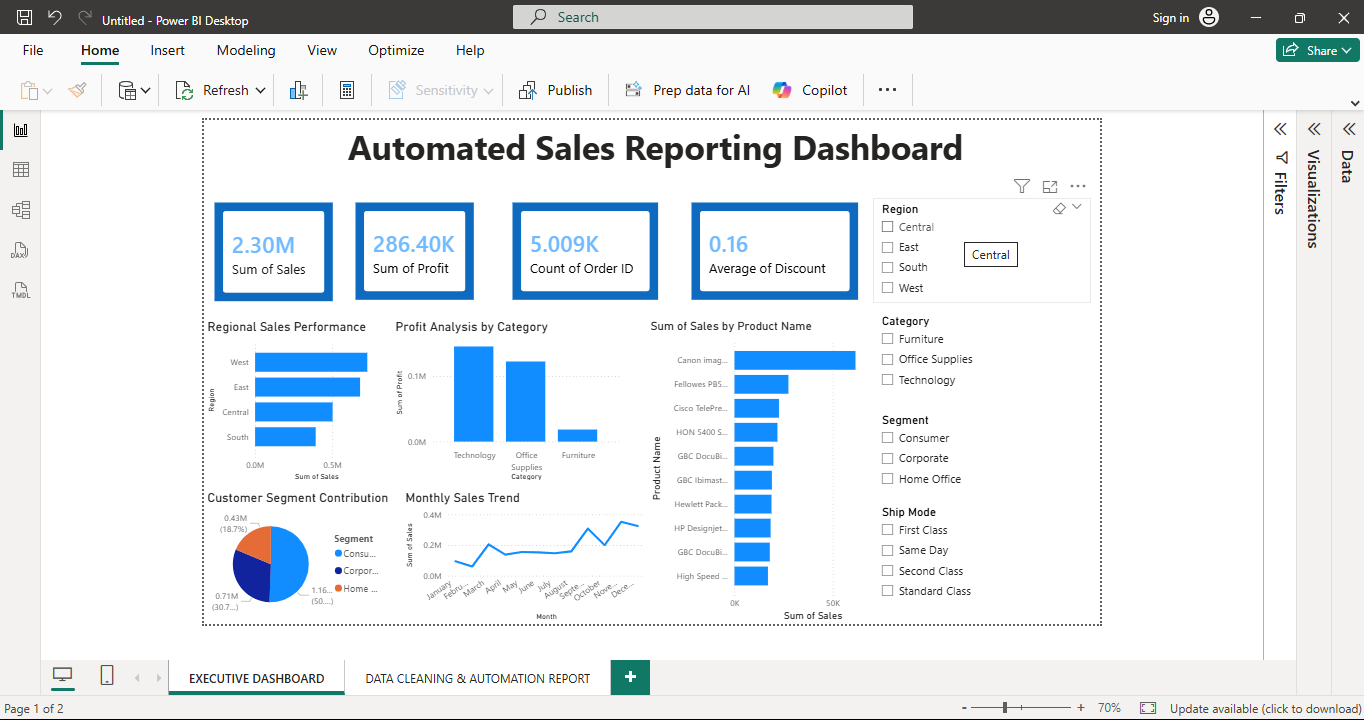

The page's visual inventory and layout, read from the dashboard file:
{"tool":"powerbi","page":{"name":"EXECUTIVE DASHBOARD","canvas":[1280,720],"ordinal":0},"visuals":[{"type":"textbox","box":[10.1,0,1269.9,80.6],"z":0},{"type":"cardVisual","fields":{"Data":["Sum(Sample - Superstore.Sales)"]},"box":[10.1,112.5,179.7,151.2],"z":1000},{"type":"cardVisual","fields":{"Data":["Sum(Sample - Superstore.Profit)"]},"box":[211.7,112.5,179.7,149.5],"z":2000},{"type":"cardVisual","fields":{"Data":["Count(Sample - Superstore.Order ID)"]},"box":[435.1,112.5,218.4,149.5],"z":3000},{"type":"cardVisual","fields":{"Data":["Avg(Sample - Superstore.Discount)"]},"box":[692.1,112.5,248.6,149.5],"z":4000},{"type":"clusteredBarChart","title":"Regional Sales Performance","fields":{"Category":["Sample - Superstore.Region"],"Y":["Sum(Sample - Superstore.Sales)"]},"box":[0,283.9,268.8,235.2],"z":5000},{"type":"columnChart","title":"Profit Analysis by Category","fields":{"Category":["Sample - Superstore.Category"],"Y":["Sum(Sample - Superstore.Profit)"]},"box":[268.8,283.9,330.9,235.2],"z":6000},{"type":"lineChart","title":"Monthly Sales Trend","fields":{"Category":["Sample - Superstore.Order Date.Variation.Date Hierarchy.Month"],"Y":["Sum(Sample - Superstore.Sales)"]},"box":[282.2,529.1,351.1,191.5],"z":7000},{"type":"pieChart","title":"Customer Segment Contribution","fields":{"Category":["Sample - Superstore.Segment"],"Y":["Sum(Sample - Superstore.Sales)"]},"box":[0,529,269,191],"z":8000},{"type":"barChart","fields":{"Category":["Sample - Superstore.Product Name"],"Y":["Sum(Sample - Superstore.Sales)"]},"box":[633.3,283.9,364.5,436.7],"z":9000},{"type":"slicer","fields":{"Values":["Sample - Superstore.Region"]},"box":[955.8,110.9,310.8,151.2],"z":10000},{"type":"slicer","fields":{"Values":["Sample - Superstore.Category"]},"box":[955.8,272.1,282.2,129.3],"z":11000},{"type":"slicer","fields":{"Values":["Sample - Superstore.Segment"]},"box":[955.8,413.2,282.2,131],"z":12000},{"type":"slicer","fields":{"Values":["Sample - Superstore.Ship Mode"]},"box":[955.8,544.3,282.2,176.4],"z":13000}]}

Visuals, with their boxes on the page's 1280x720 design canvas (x1, y1, x2, y2). These are canvas units, not pixel positions in the 1364x720 screenshot, which may show the page scaled, cropped or inside an application window:
textbox: crop(10, 0, 1280, 81)
cardVisual - Sum(Sample - Superstore.Sales): crop(10, 112, 190, 264)
cardVisual - Sum(Sample - Superstore.Profit): crop(212, 112, 391, 262)
cardVisual - Count(Sample - Superstore.Order ID): crop(435, 112, 654, 262)
cardVisual - Avg(Sample - Superstore.Discount): crop(692, 112, 941, 262)
"Regional Sales Performance" clusteredBarChart: crop(0, 284, 269, 519)
"Profit Analysis by Category" columnChart: crop(269, 284, 600, 519)
"Monthly Sales Trend" lineChart: crop(282, 529, 633, 721)
"Customer Segment Contribution" pieChart: crop(0, 529, 269, 720)
barChart - Sample - Superstore.Product Name x Sum(Sample - Superstore.Sales): crop(633, 284, 998, 721)
slicer - Sample - Superstore.Region: crop(956, 111, 1267, 262)
slicer - Sample - Superstore.Category: crop(956, 272, 1238, 401)
slicer - Sample - Superstore.Segment: crop(956, 413, 1238, 544)
slicer - Sample - Superstore.Ship Mode: crop(956, 544, 1238, 721)
